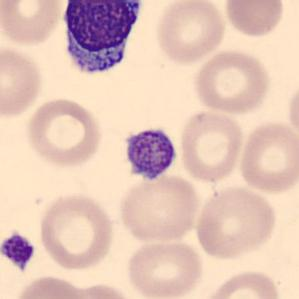Lymphocyte: (55, 0, 149, 84)
Platelets: (119, 124, 180, 186), (0, 230, 37, 274)
RBC: (192, 184, 279, 261), (36, 190, 117, 272), (116, 169, 202, 244), (24, 94, 104, 169), (191, 47, 273, 115), (177, 108, 246, 184), (125, 235, 204, 299), (152, 0, 228, 65), (237, 119, 298, 195), (0, 42, 45, 120), (0, 0, 66, 47), (201, 267, 284, 299), (221, 0, 287, 40), (11, 272, 91, 299), (64, 280, 140, 299), (285, 80, 299, 145)
